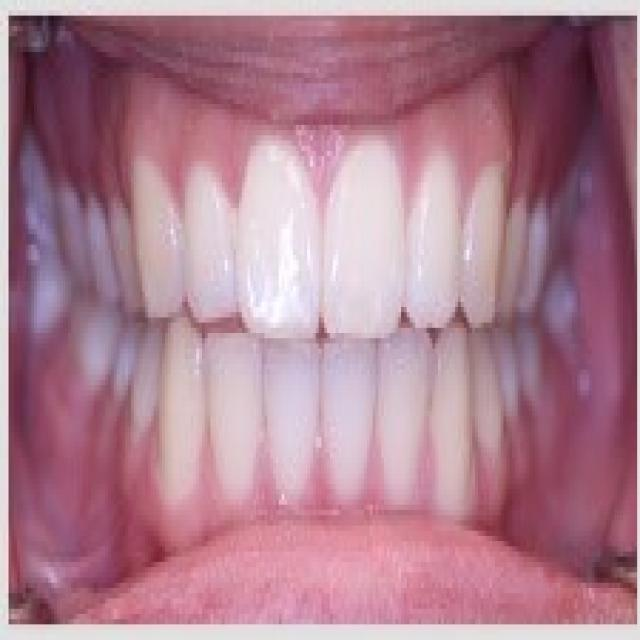tooth: (307, 42, 401, 348), (234, 135, 322, 338), (307, 333, 367, 500), (179, 162, 239, 318), (256, 364, 324, 494), (378, 328, 429, 499), (162, 318, 211, 489), (131, 156, 182, 312), (208, 333, 258, 489), (418, 182, 467, 333), (435, 333, 475, 500), (105, 192, 142, 318), (509, 193, 541, 312), (122, 322, 160, 422), (478, 172, 506, 307), (472, 333, 504, 447), (54, 182, 88, 286), (82, 192, 114, 302)
